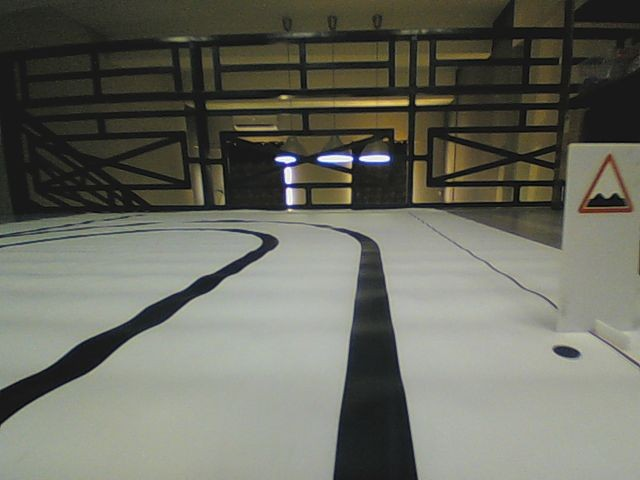Nerov: (578, 153, 634, 214)
